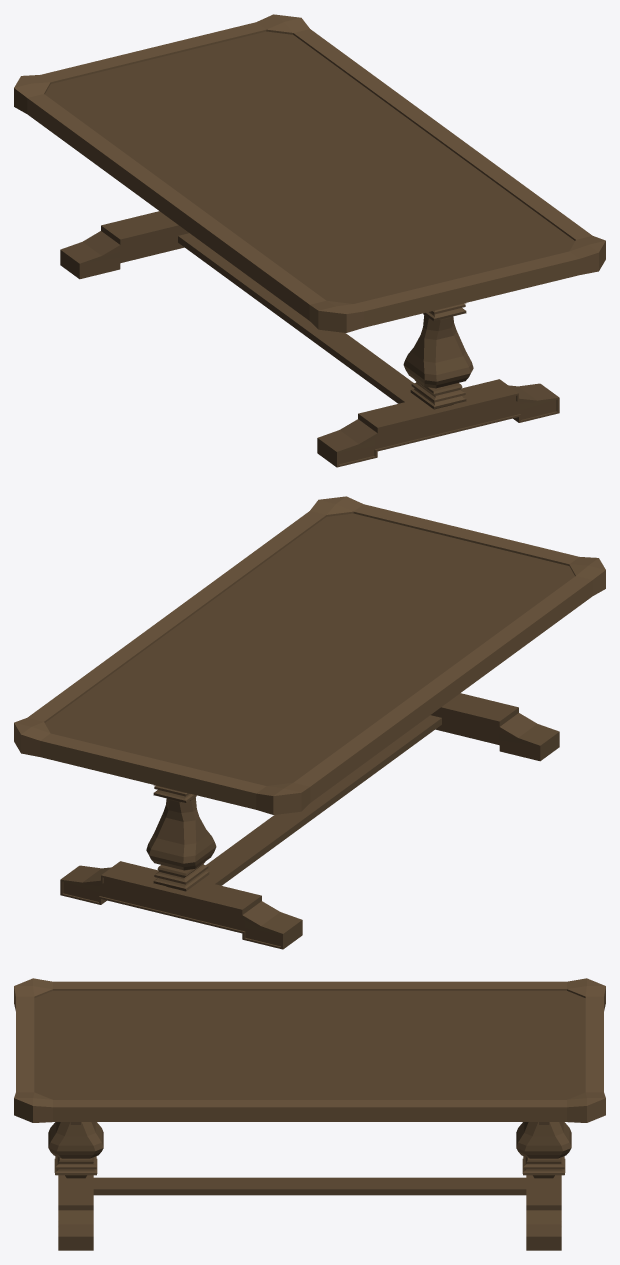
The model's file is quaternius-furniture-pack-march-table-2.glb.
3 renders of one model, top to bottom at view 1: azimuth 30°, elevation 25°; view 2: azimuth 150°, elevation 25°; view 3: azimuth 270°, elevation 25°, orthographic. The views are drawn at different scales.
Visible parts, largest first — view 1: Table2; view 2: Table2; view 3: Table2.
Boxes of the visible parts, x1,y1,x2,y2 form: Table2: (14, 14, 605, 467); Table2: (14, 496, 605, 949); Table2: (14, 978, 605, 1250).
Bounding box in the file's own units: 1.42 × 0.8245 × 2.78.
